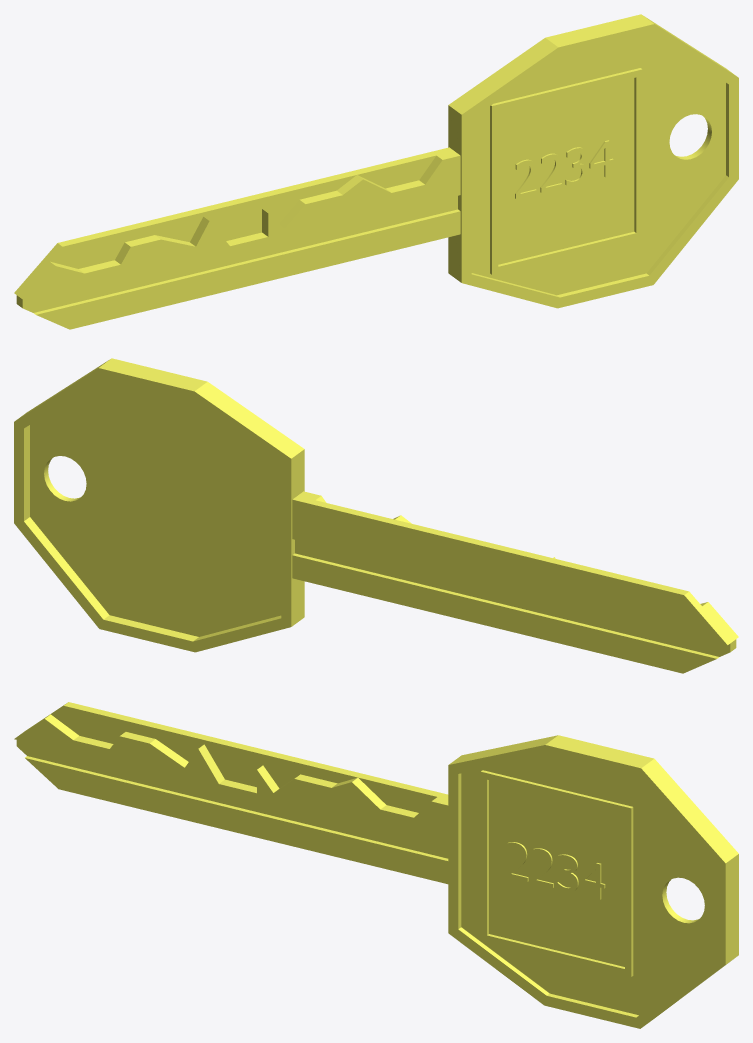
Rendered from 8key.dae.
The picture shows the model from 3 angles, top to bottom: view 1: azimuth 30°, elevation 25°; view 2: azimuth 150°, elevation 25°; view 3: azimuth 330°, elevation 25°; orthographic projection.
Visible parts, largest first — view 1: SketchUp (×4); view 2: SketchUp (×2); view 3: SketchUp (×4).
Boxes of the visible parts, x1,y1,x2,y2 form: SketchUp (×4): [14, 14, 738, 329]; SketchUp (×2): [14, 358, 738, 673]; SketchUp (×4): [14, 702, 738, 1028].
Bounding box in the file's own units: 201 × 6.5 × 70.32.
